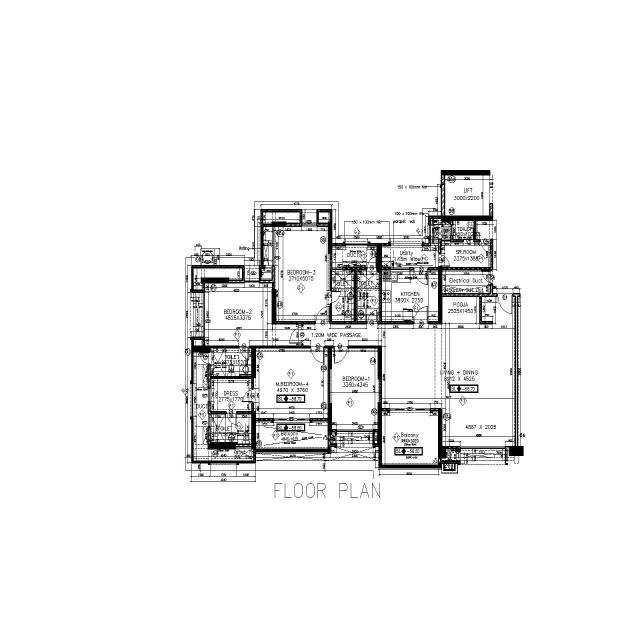Column: (436, 406, 448, 460), (439, 214, 494, 222), (440, 169, 491, 177), (378, 400, 384, 468), (190, 345, 240, 353), (437, 264, 443, 324), (270, 286, 278, 326), (376, 344, 384, 382), (326, 220, 334, 256), (207, 441, 237, 450), (259, 224, 265, 266), (375, 243, 383, 273), (250, 345, 257, 378), (508, 445, 525, 457), (251, 410, 256, 450), (200, 277, 230, 283), (327, 401, 332, 436), (327, 345, 333, 371), (270, 220, 288, 228)
Door: (331, 345, 348, 349), (496, 292, 512, 296), (413, 267, 429, 271), (315, 320, 331, 324), (414, 320, 429, 324), (310, 345, 325, 349), (301, 325, 304, 345), (366, 320, 378, 324), (238, 345, 250, 349), (251, 388, 254, 404), (225, 410, 237, 414), (438, 251, 441, 266), (366, 266, 377, 270), (490, 271, 493, 285), (480, 239, 490, 243), (330, 288, 332, 304)
Opening: (441, 321, 481, 325)
Window: (198, 291, 205, 337), (459, 445, 508, 449), (207, 387, 211, 403)
